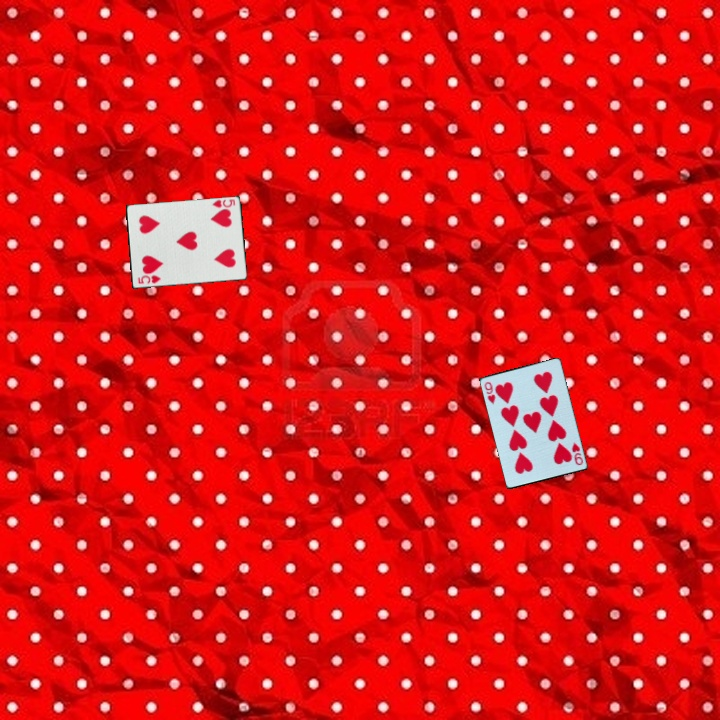5h: (209, 196, 238, 210), (135, 272, 164, 286)
9h: (568, 439, 586, 468), (481, 378, 498, 407)
